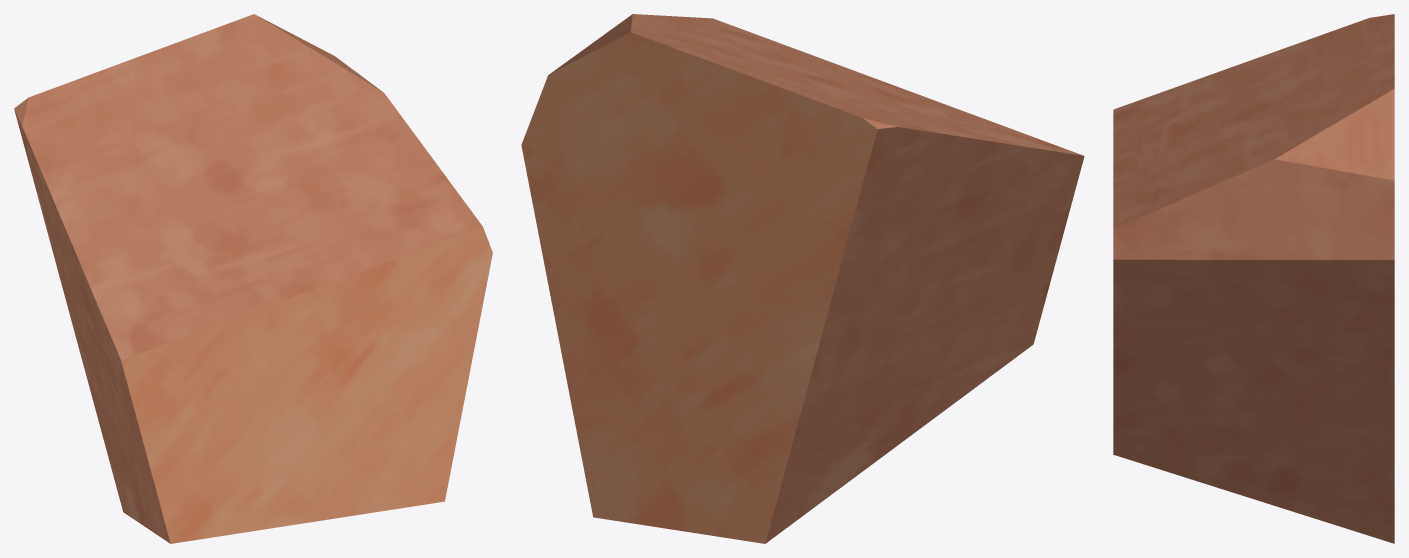
The model's file is townwall_s05.fbx.
The picture shows the model from 3 angles, left to right: view 1: azimuth 30°, elevation 25°; view 2: azimuth 150°, elevation 25°; view 3: azimuth 270°, elevation 25°; orthographic projection. The views are drawn at different scales.
Parts seen in each view (by area): view 1: townwall_s05; view 2: townwall_s05; view 3: townwall_s05.
Boxes of the visible parts, x1,y1,x2,y2 form: townwall_s05: (14, 14, 492, 543); townwall_s05: (521, 14, 1084, 543); townwall_s05: (1113, 14, 1394, 543).
Bounding box in the file's own units: 4.42 × 5.16 × 3.
